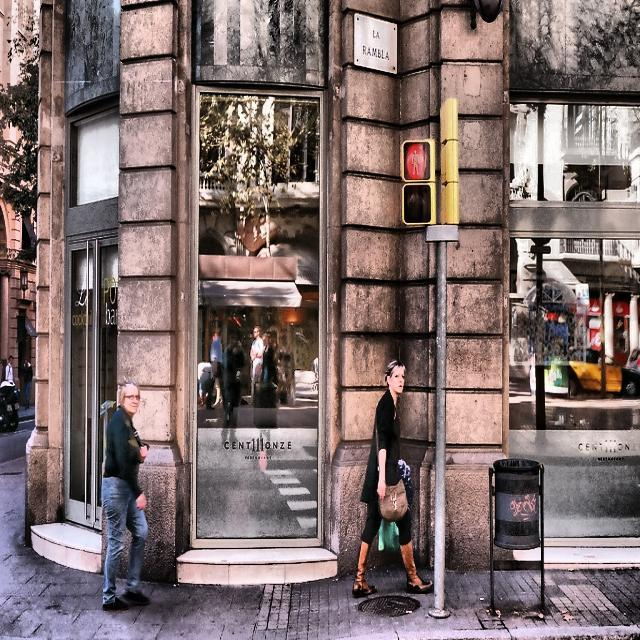red_light: (410, 147, 420, 177)
